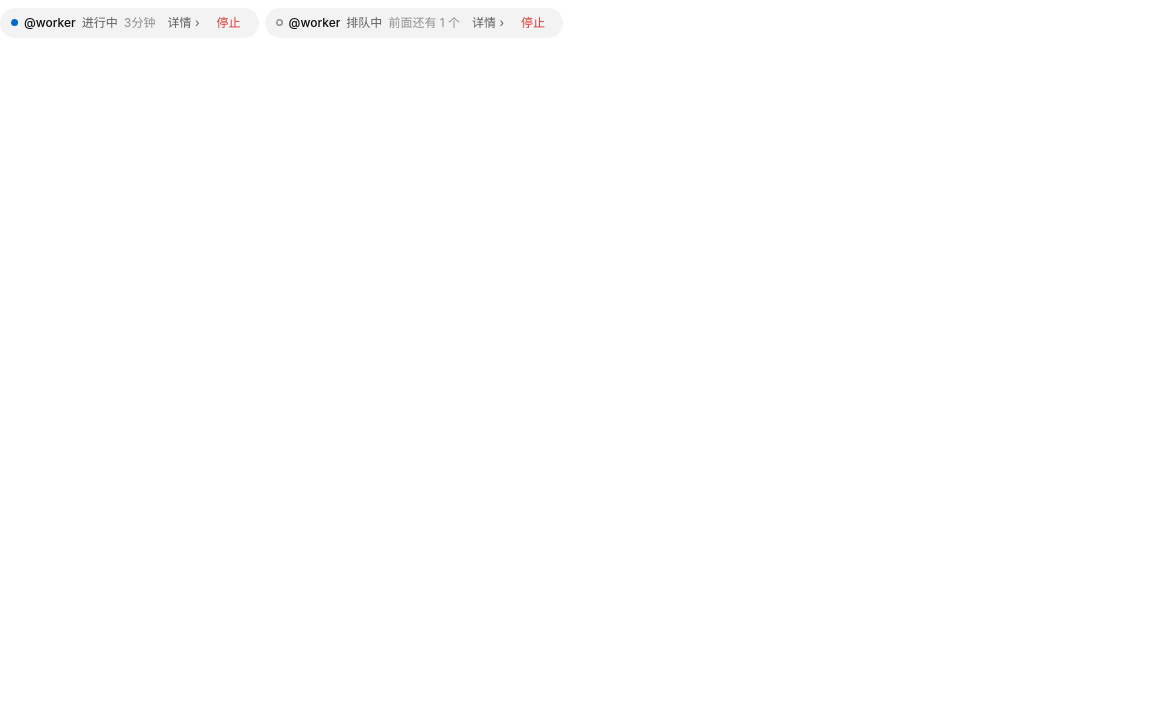
Test: queued status line › explains why a task is still queued and how long a running one has been quiet
Expected: the text "前面还有 1 个" is shown, [388,15,460,31]
What coordinates should you click on to do the following:
click the button with aria-label "查看调用详情"
I would click on:
 (390, 23)
Its box is [276,15,504,31].
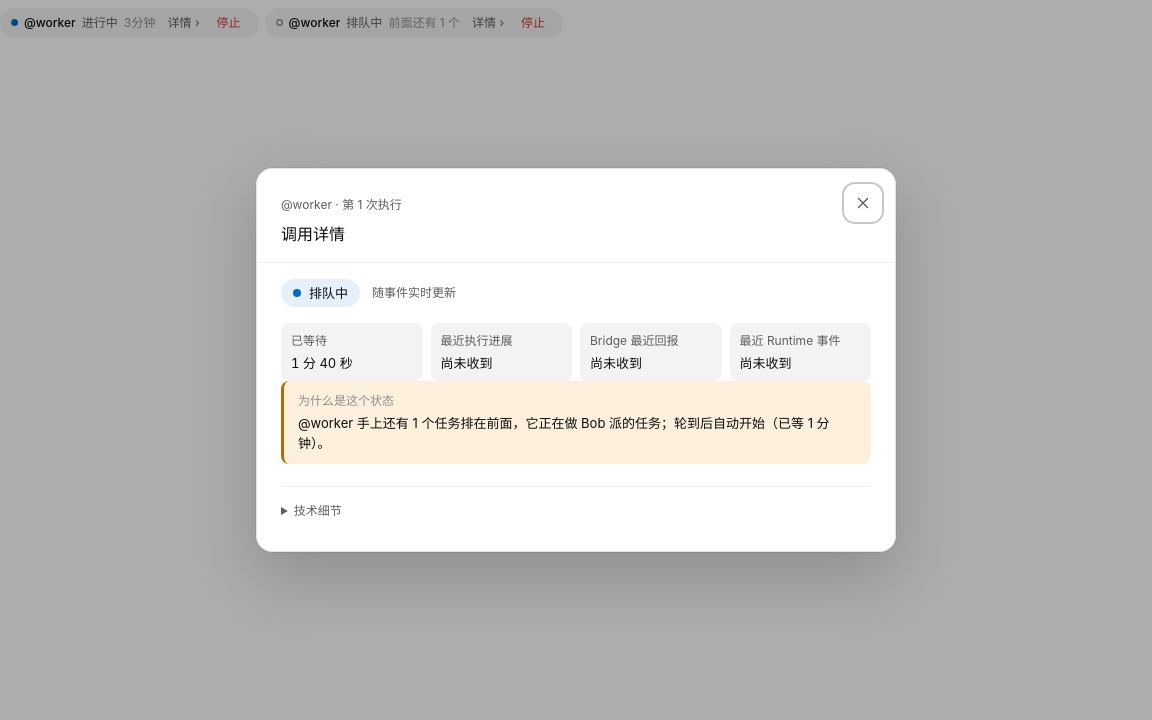
Result: the element "为什么是这个状态" shows "@worker 手上还有 1 个任务排在前面，它正在做 Bob 派的任务" at [298,415,830,451]
What coordinates should you click on to do the following:
click the button named "关闭调用详情"
I would click on:
 (863, 203)
Its box is [847,187,879,219].
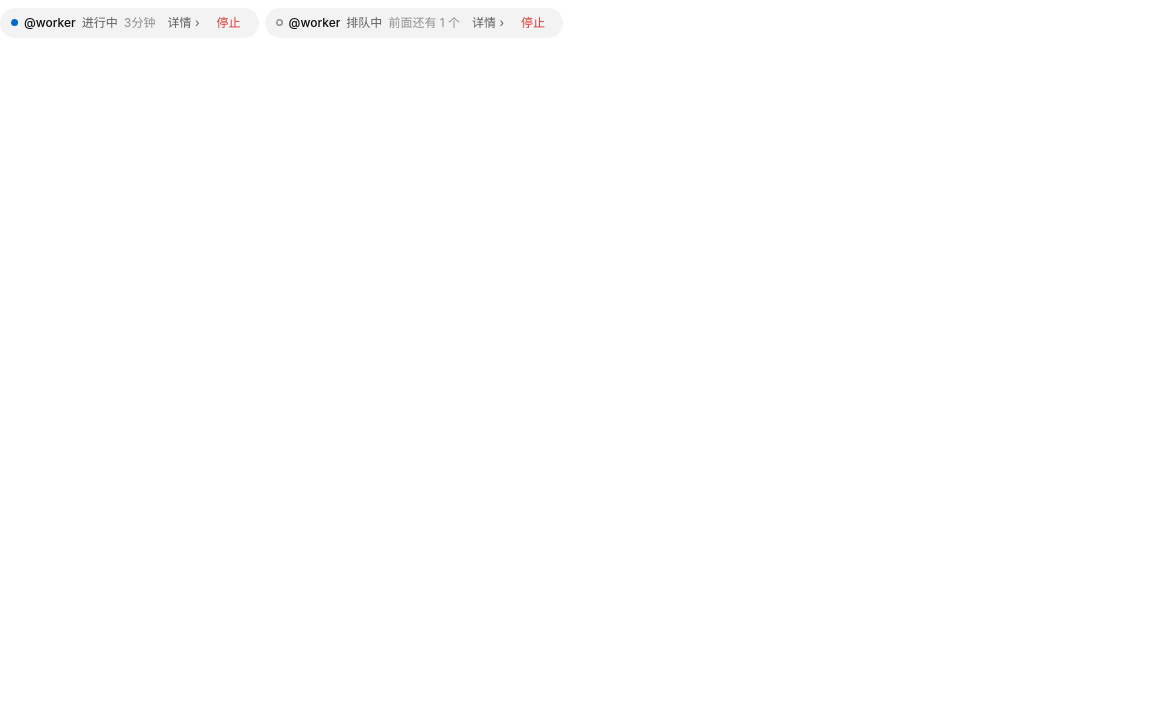
What coordinates should you click on to do the following:
click the button with aria-label "查看调用详情"
I would click on:
 (105, 23)
Its box is [11,15,200,31].
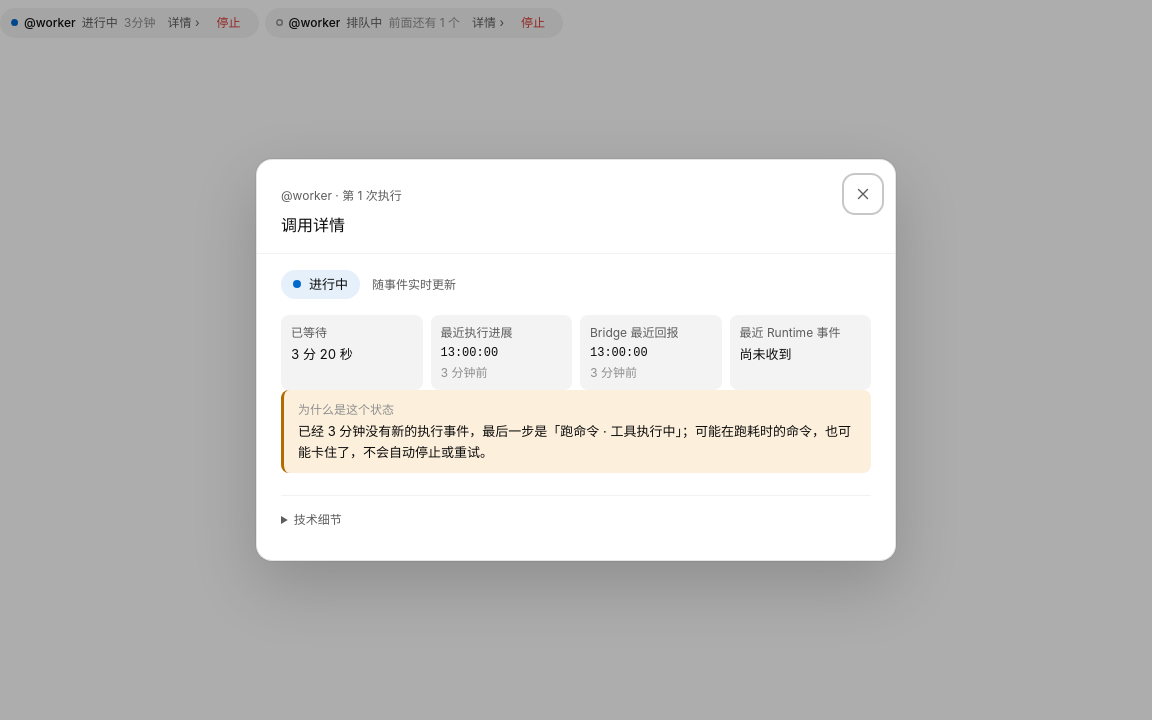
Result: the element "为什么是这个状态" shows "已经 3 分钟没有新的执行事件，最后一步是「跑命令 · 工具执行中」" at [298,423,851,460]
